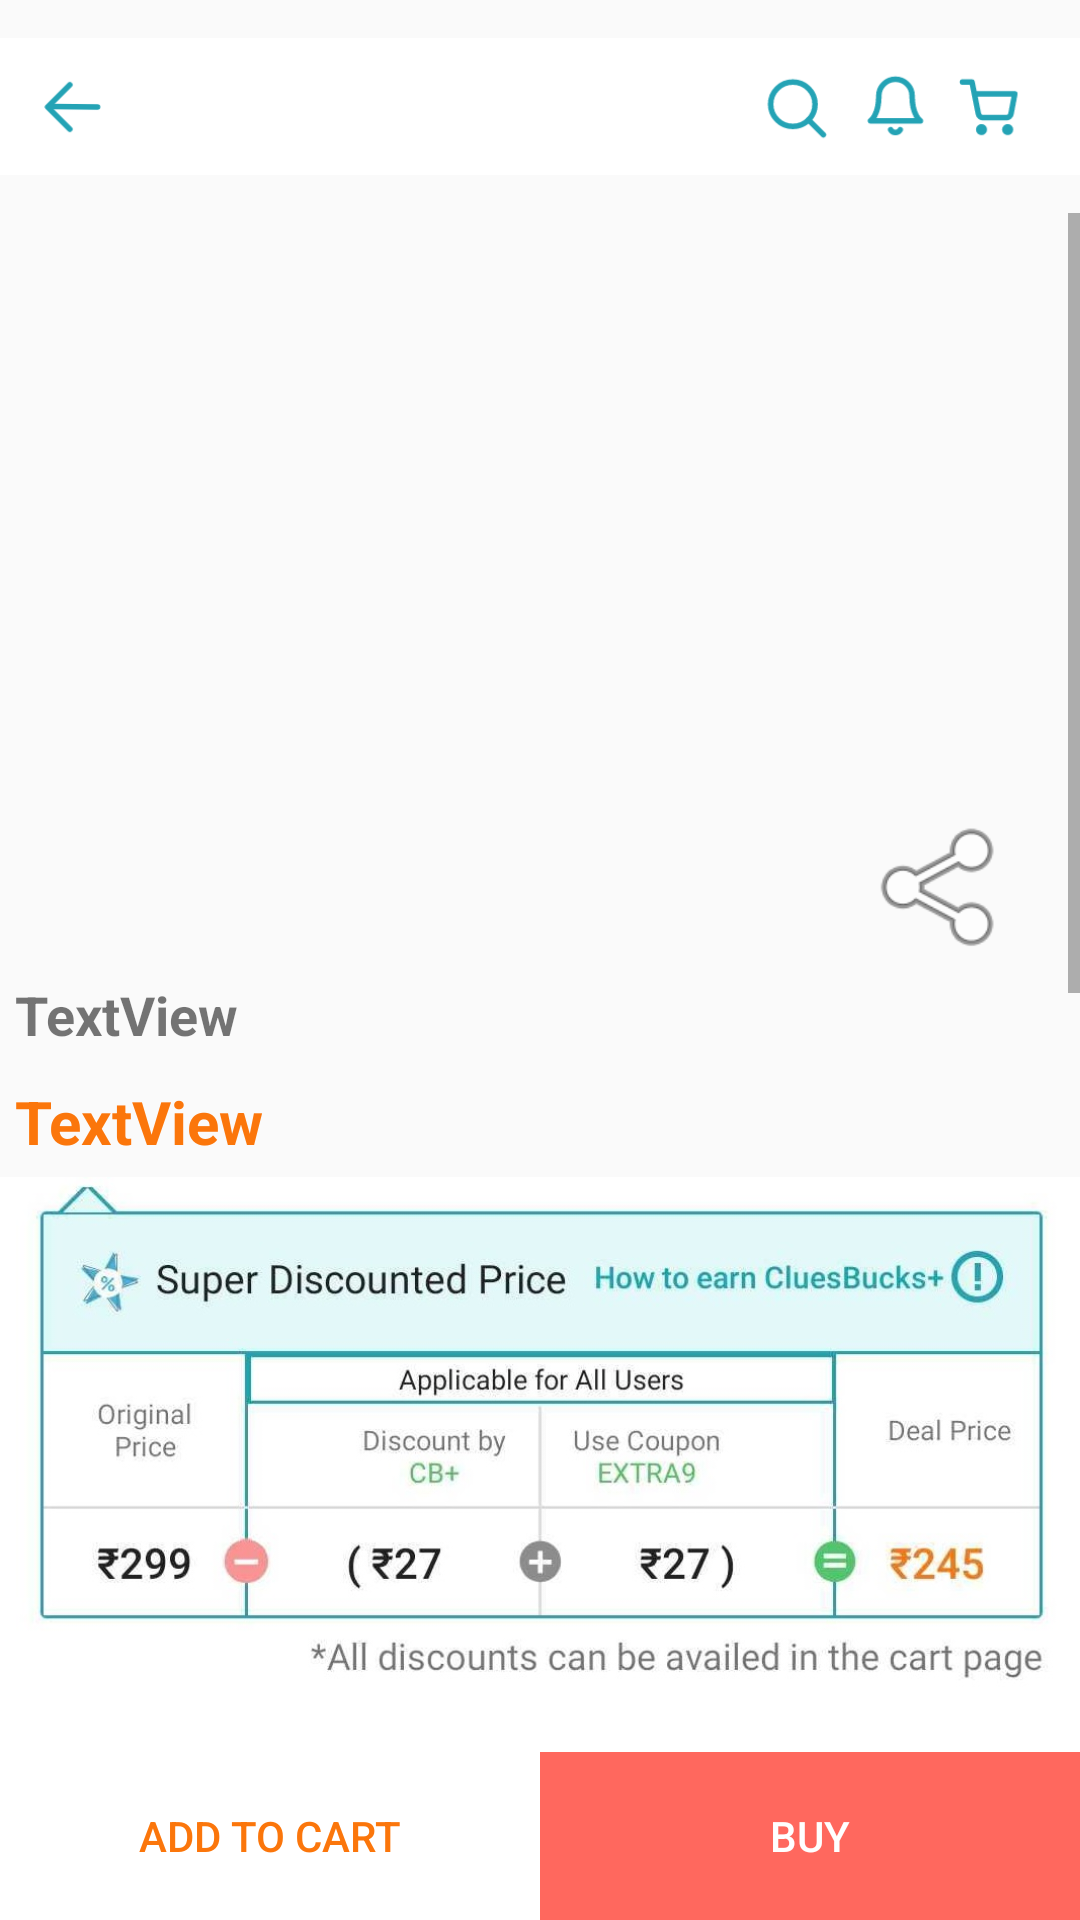

Where to tap for icons on this 1080x1920 app screen, as (x,y):
share: (937,887)
